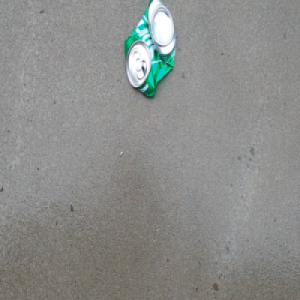SodaCan: (123, 0, 177, 101)
